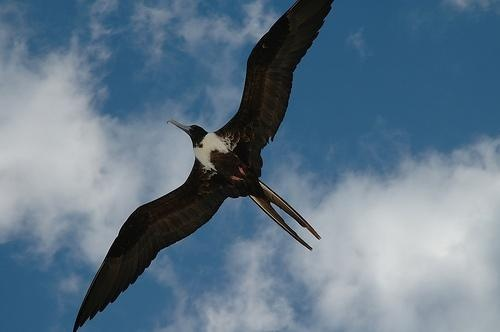bird: (72, 1, 335, 331)
